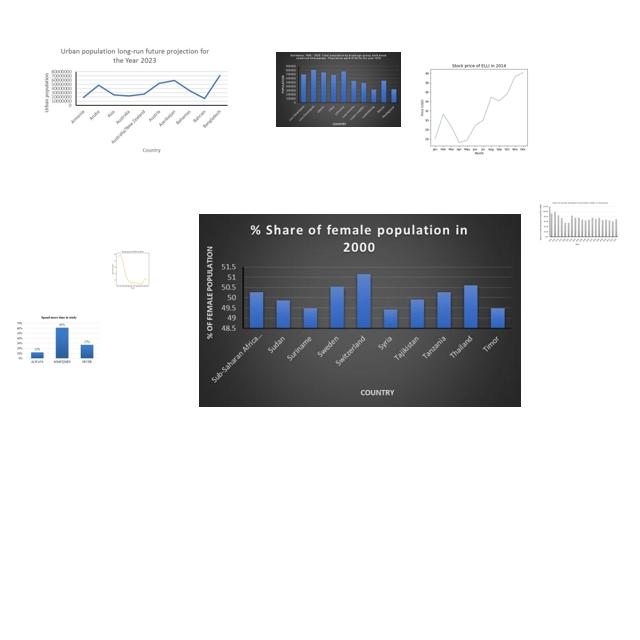Graph: (199, 214, 521, 407), (38, 43, 230, 157), (411, 57, 544, 157), (276, 52, 401, 127), (16, 314, 102, 364), (539, 200, 619, 246), (104, 248, 160, 290)
